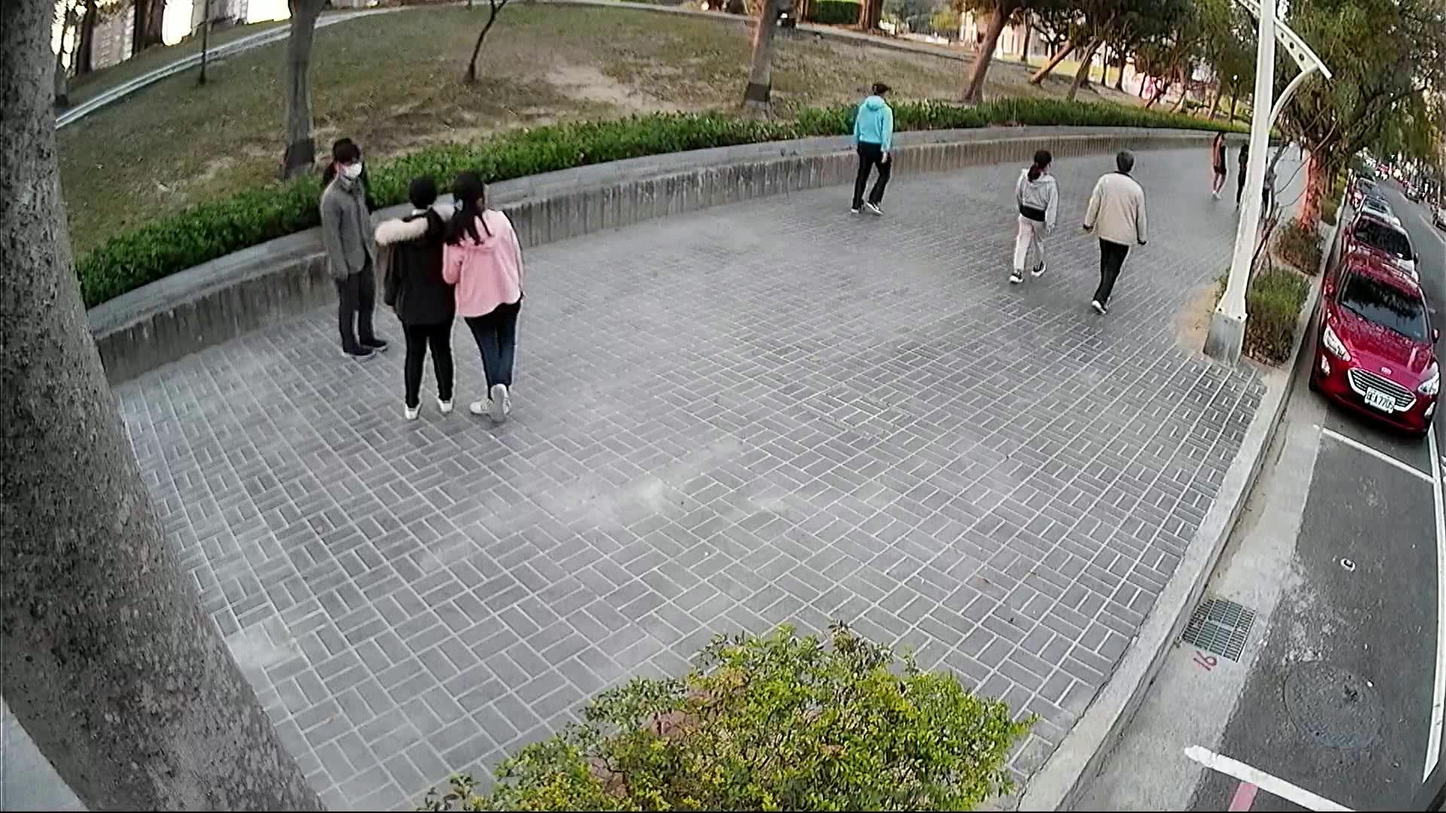person: (434, 160, 526, 428), (371, 164, 459, 425), (315, 136, 392, 368), (1074, 142, 1151, 320), (1003, 142, 1064, 290), (843, 76, 898, 221), (1205, 126, 1228, 202)
